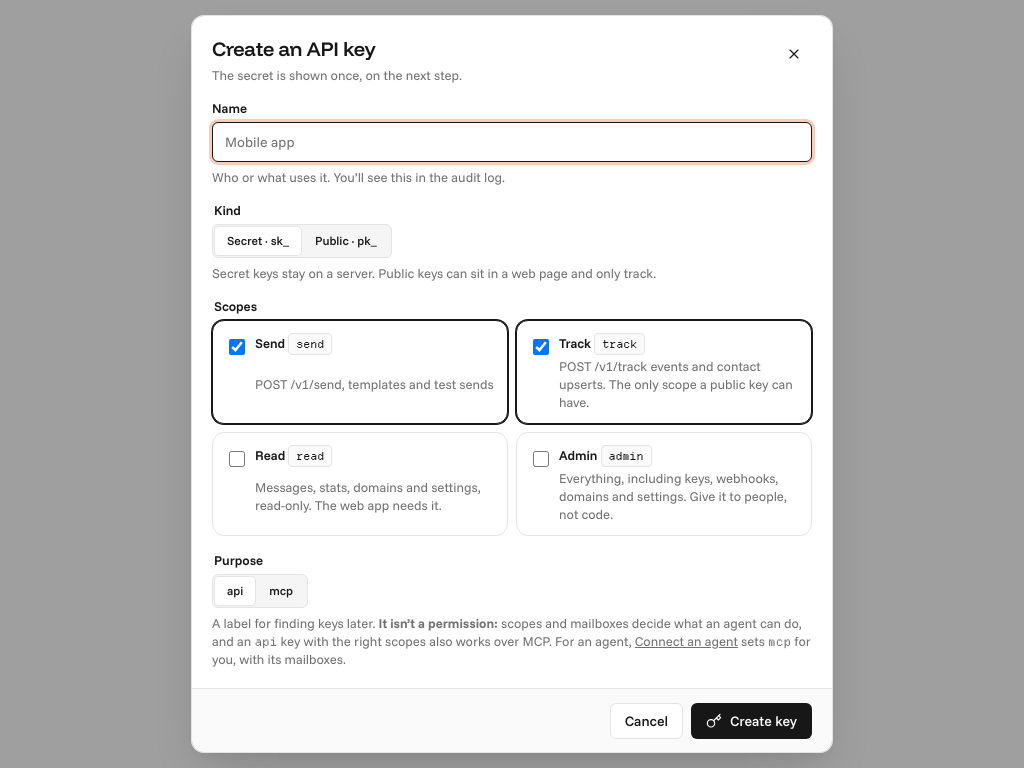
Test: CreateKeySheet › narrows a public key to track, keeps mcp off, and shows the key once
Type "Signup form" into the field labelled "Name" at [512, 142], box [212,122,812,162]
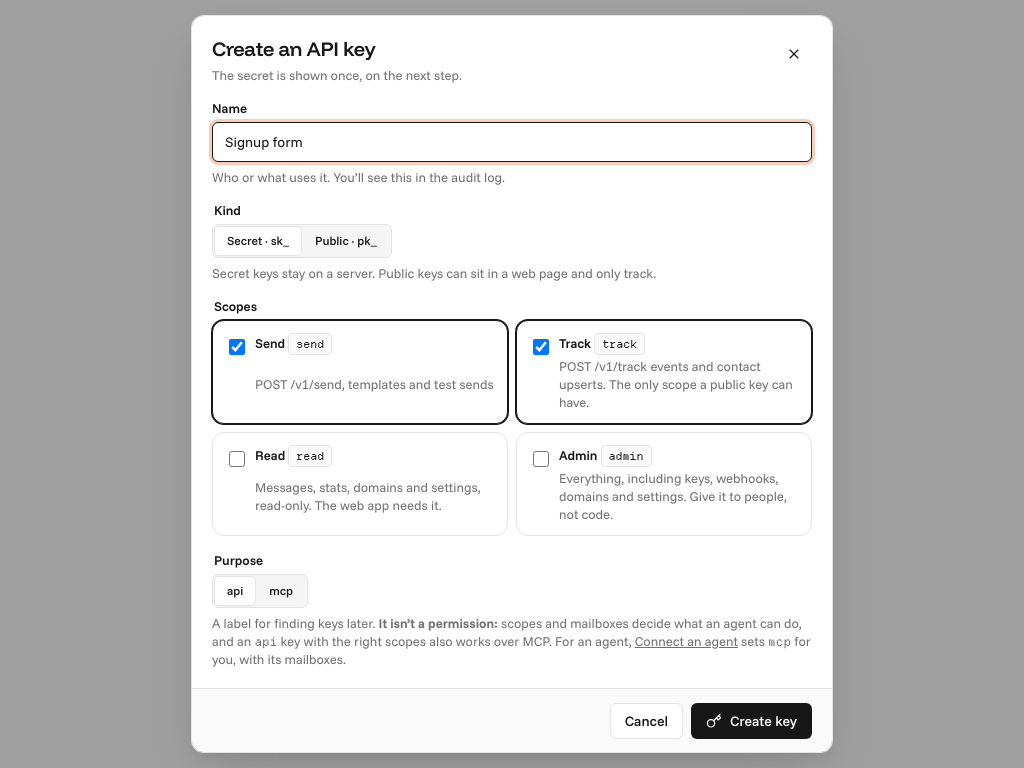
Click the button "Public · pk_" at [346, 241], box [303,227,389,255]
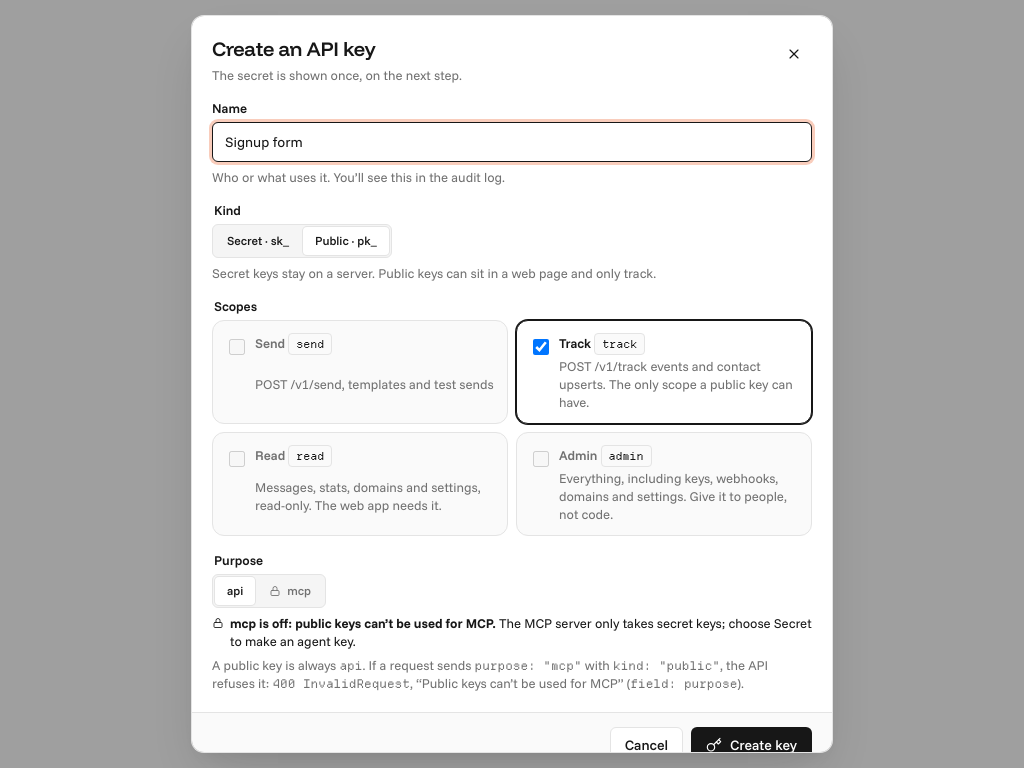
Check: the checkbox labelled "Track" is checked, box [533,335,549,359]
Check: the checkbox labelled "Send send POST /v1/send, templates and test sends" is disabled, box [229,335,245,359]
Check: the checkbox labelled "Send send POST /v1/send, templates and test sends" is not checked, box [229,335,245,359]
Click the button "Create key" at [752, 745], box [691,727,812,763]
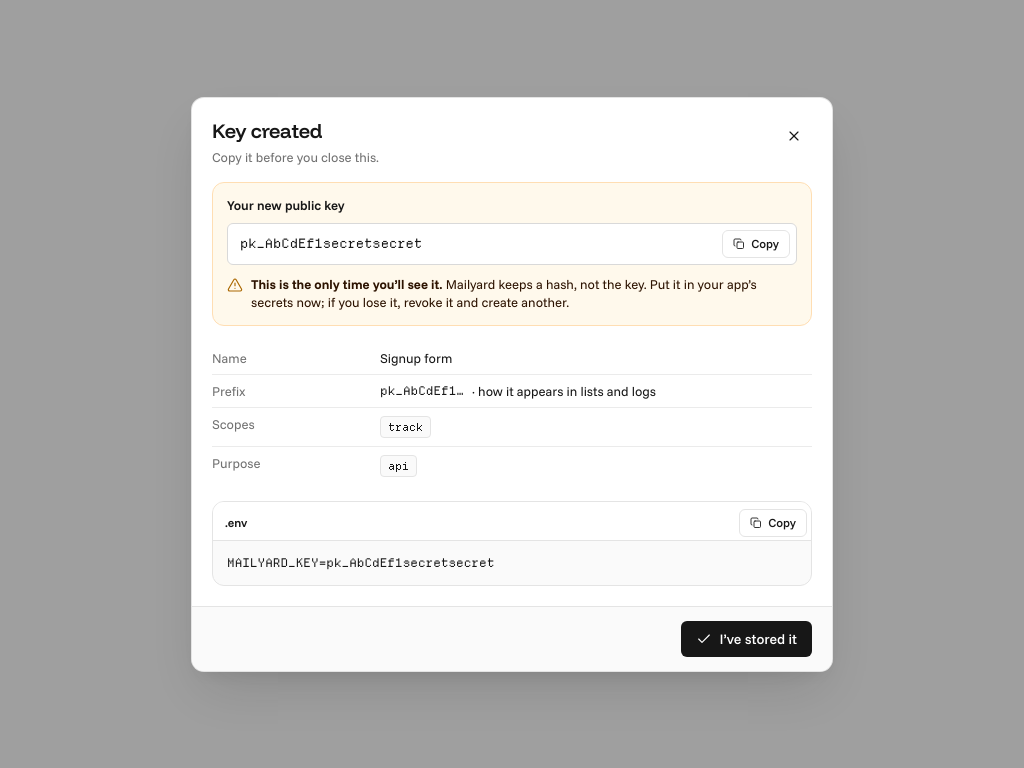
Check: the heading "Key created" is shown, box [212,118,322,142]
Check: the text "pk_AbCdEf1secretsecret" is shown, box [240,234,422,252]
Check: the text "MAILYARD_KEY=pk_AbCdEf1secretsecret" is shown, box [227,554,494,570]
